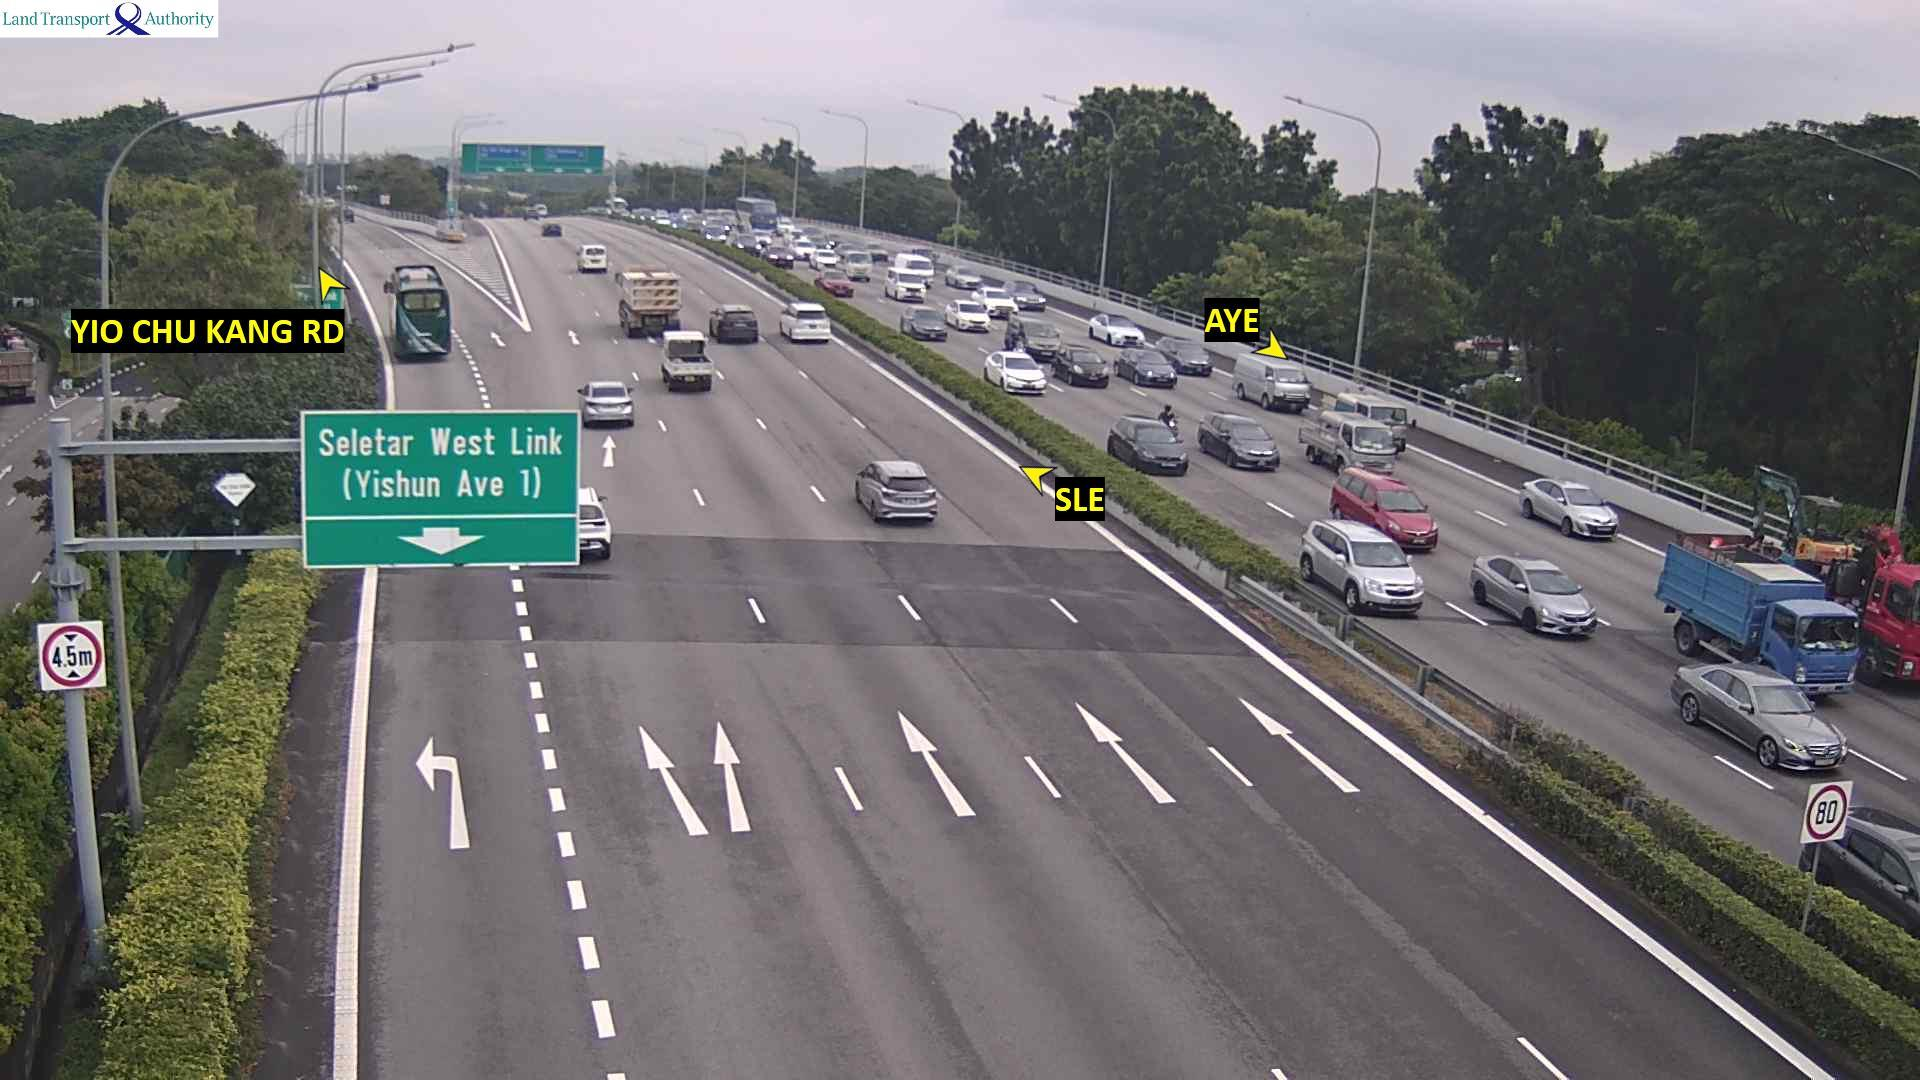incoming: (1737, 682, 1854, 774), (1780, 609, 1865, 703), (1335, 539, 1429, 616), (1513, 566, 1598, 641), (1365, 483, 1443, 554), (1557, 483, 1623, 542), (1124, 422, 1192, 477), (1218, 419, 1286, 472), (1341, 425, 1398, 476), (1365, 402, 1418, 454), (1265, 364, 1315, 415), (993, 356, 1050, 396), (1129, 351, 1179, 389), (1018, 320, 1063, 363), (1064, 349, 1110, 388), (1172, 340, 1216, 378), (1101, 315, 1147, 348), (905, 309, 948, 343), (893, 272, 930, 305), (952, 303, 992, 334), (748, 200, 781, 236), (1011, 282, 1048, 311), (820, 270, 858, 298), (984, 290, 1019, 318), (906, 257, 938, 286), (845, 251, 874, 282), (765, 244, 796, 272), (952, 266, 985, 289), (735, 233, 762, 257), (1158, 415, 1182, 442), (815, 249, 843, 272), (793, 240, 819, 260), (703, 224, 728, 243)
